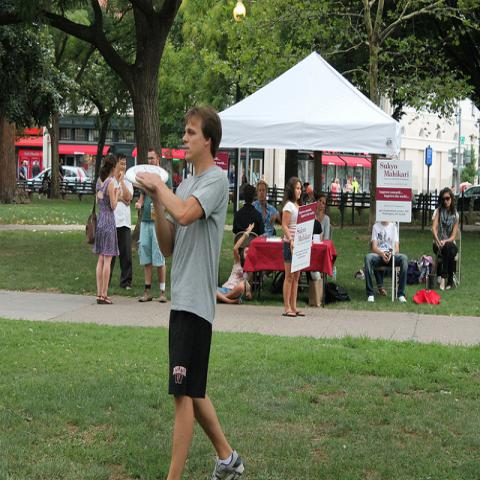car: (27, 164, 92, 194), (458, 186, 480, 212)
